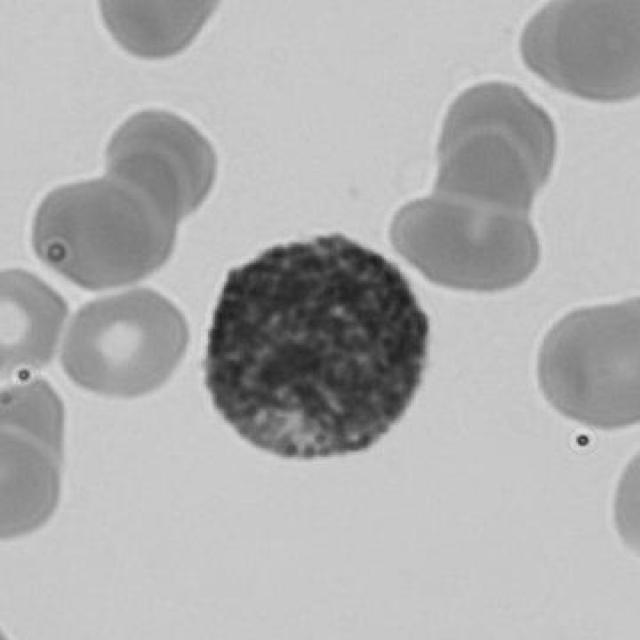RBC: (384, 158, 546, 300), (427, 68, 565, 214), (23, 169, 174, 293), (55, 279, 196, 402), (526, 286, 640, 434), (510, 0, 638, 105), (87, 2, 231, 66), (0, 421, 69, 547), (0, 265, 75, 377), (604, 428, 640, 572)
